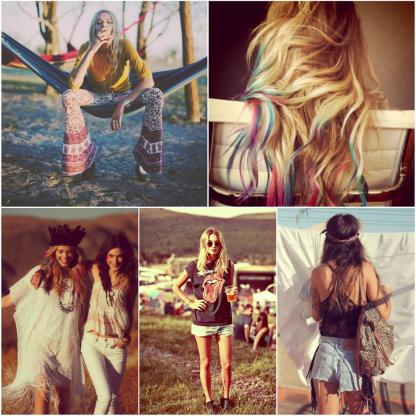face: (96, 13, 113, 40), (56, 246, 75, 267), (107, 249, 124, 272), (206, 235, 222, 256), (248, 309, 254, 316)
